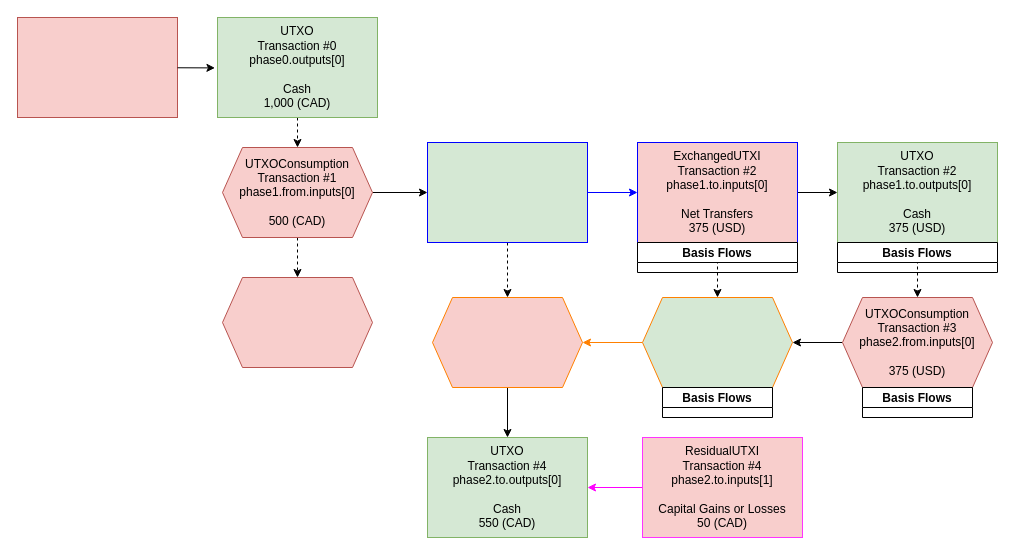
The diagram is 1015 pixels wide and 555 high, and some of its shapes have lost their labels. Each missing label, with the centre of its shape:
ExchangedUTXO Transaction #1 phase1.from.outputs[0] Net Transfers 500 (CAD): point 507,192
UTXI Transaction #0 phase0.inputs[0] Opening Balance 1,000 (CAD): point 97,67
UTXIConsumption Transaction #3 phase2.from.outputs[0] 375 (USD): point 717,342
UTXOConsumption Transaction #4 phase2.to.inputs[0] 500 (CAD): point 507,342
UTXOConsumption Transaction #5: point 297,322
